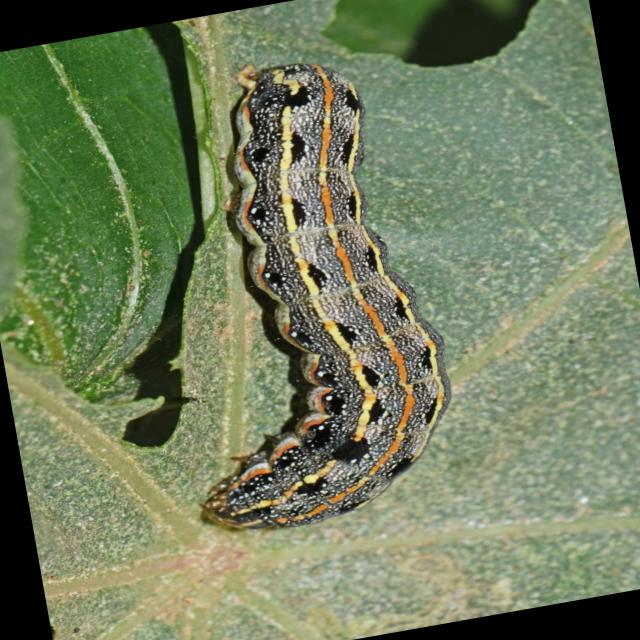Armyworm: (119, 38, 473, 560)
